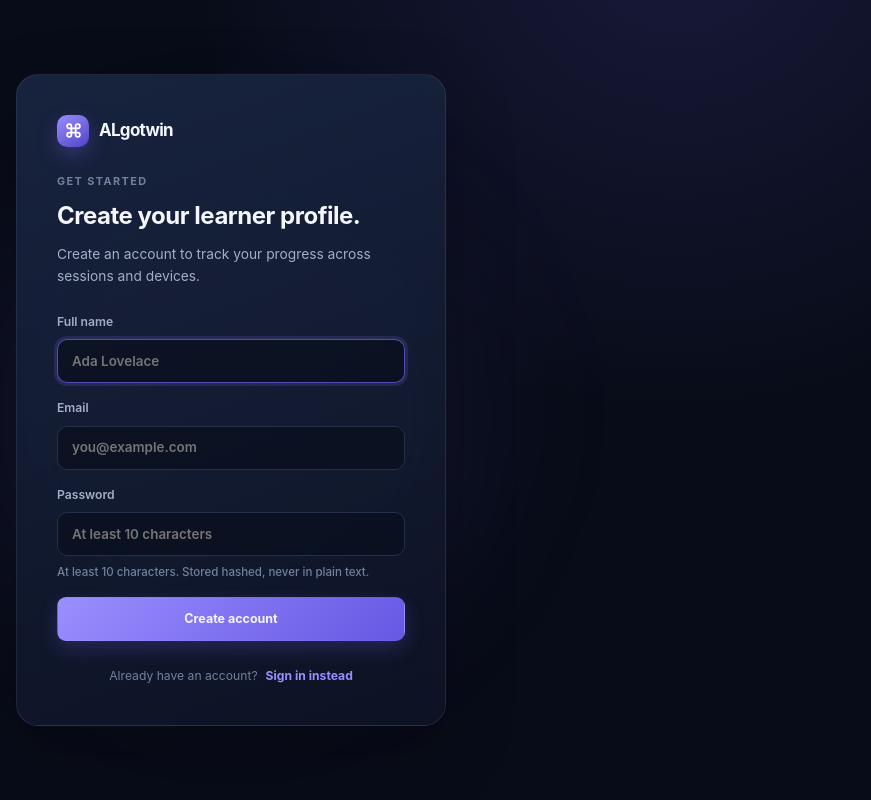
Test: RegisterPage › surfaces a validation error message returned by the API
Type "Grace Hopper" into the field labelled "Full name" at (231, 361), box [57,339,405,383]
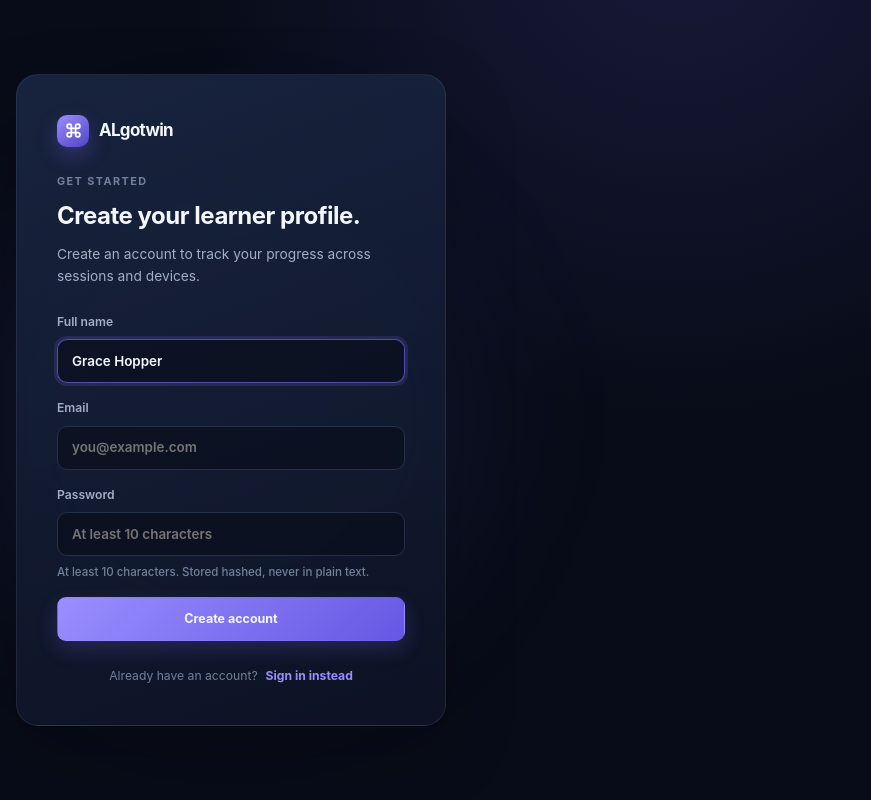
Type "grace@example.com" into the field labelled "Email" at (231, 448), box [57,426,405,470]
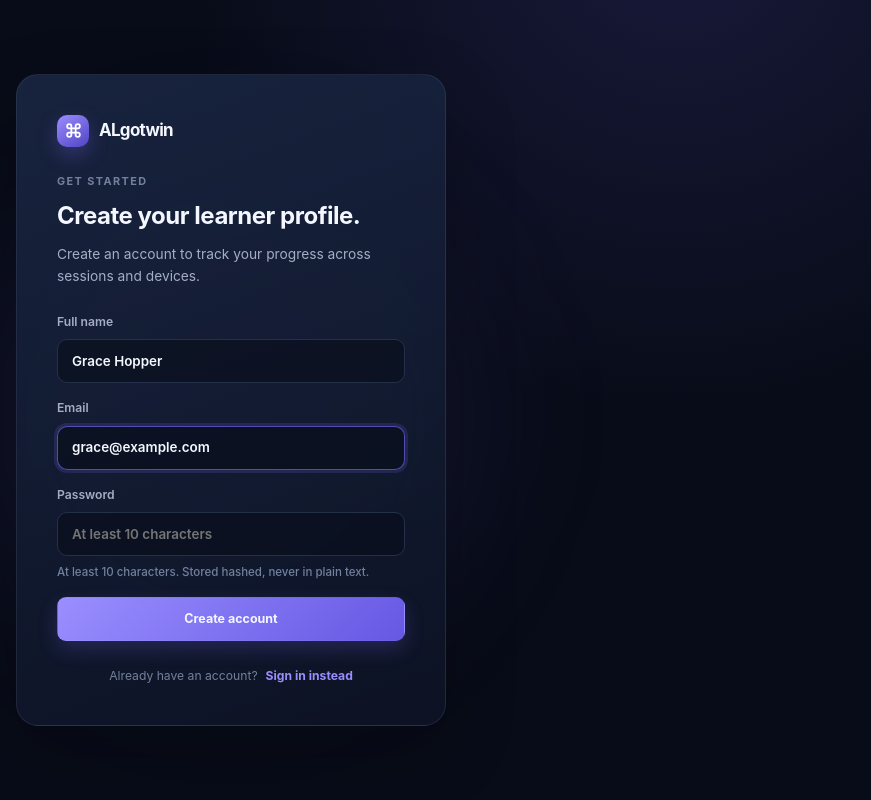
Type "correct-horse-battery-staple" into the password field labelled "Password" at (231, 534), box [57,512,405,556]
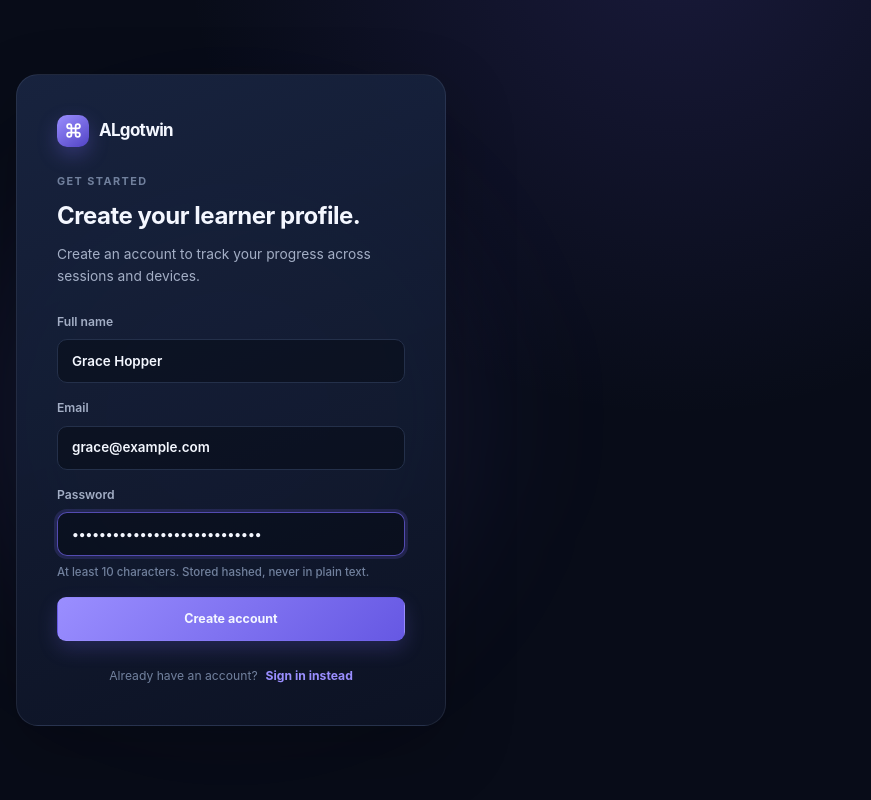
Click the button "Create account" at (231, 619), box [57,597,405,641]
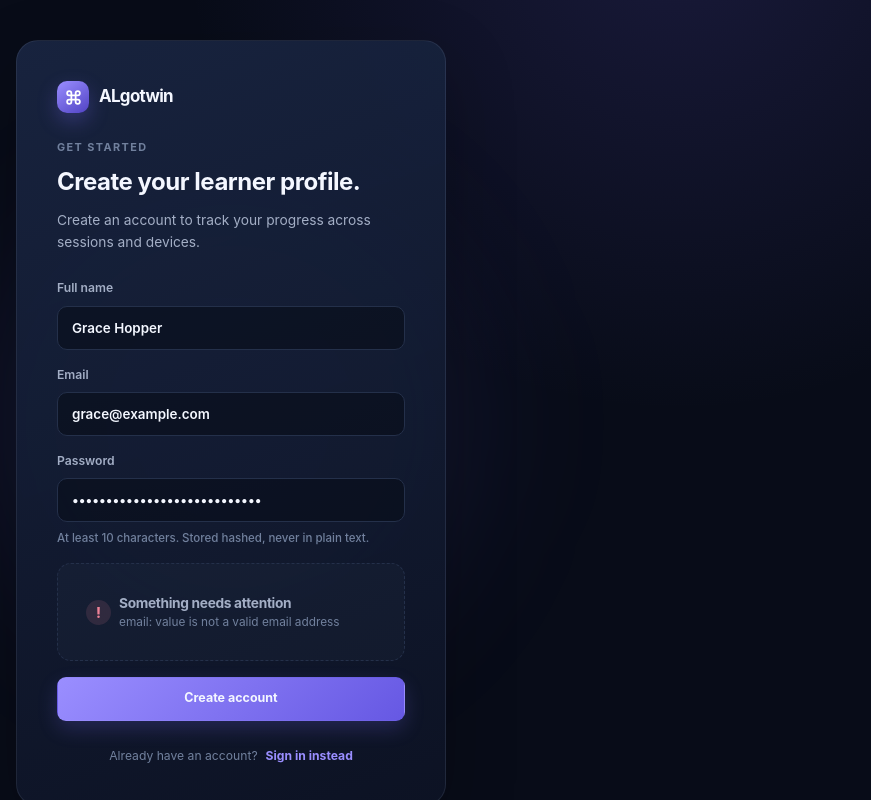
Expected: the text "email: value is not a valid email address" is shown, [119,614,340,632]
